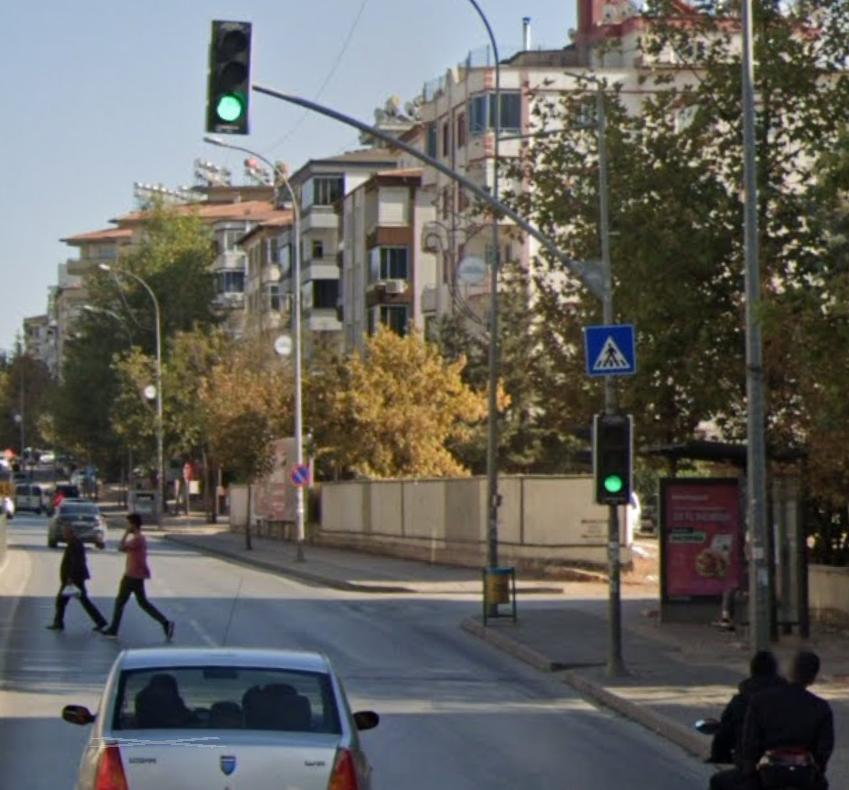greenlight: (212, 15, 254, 137), (592, 403, 635, 504)
